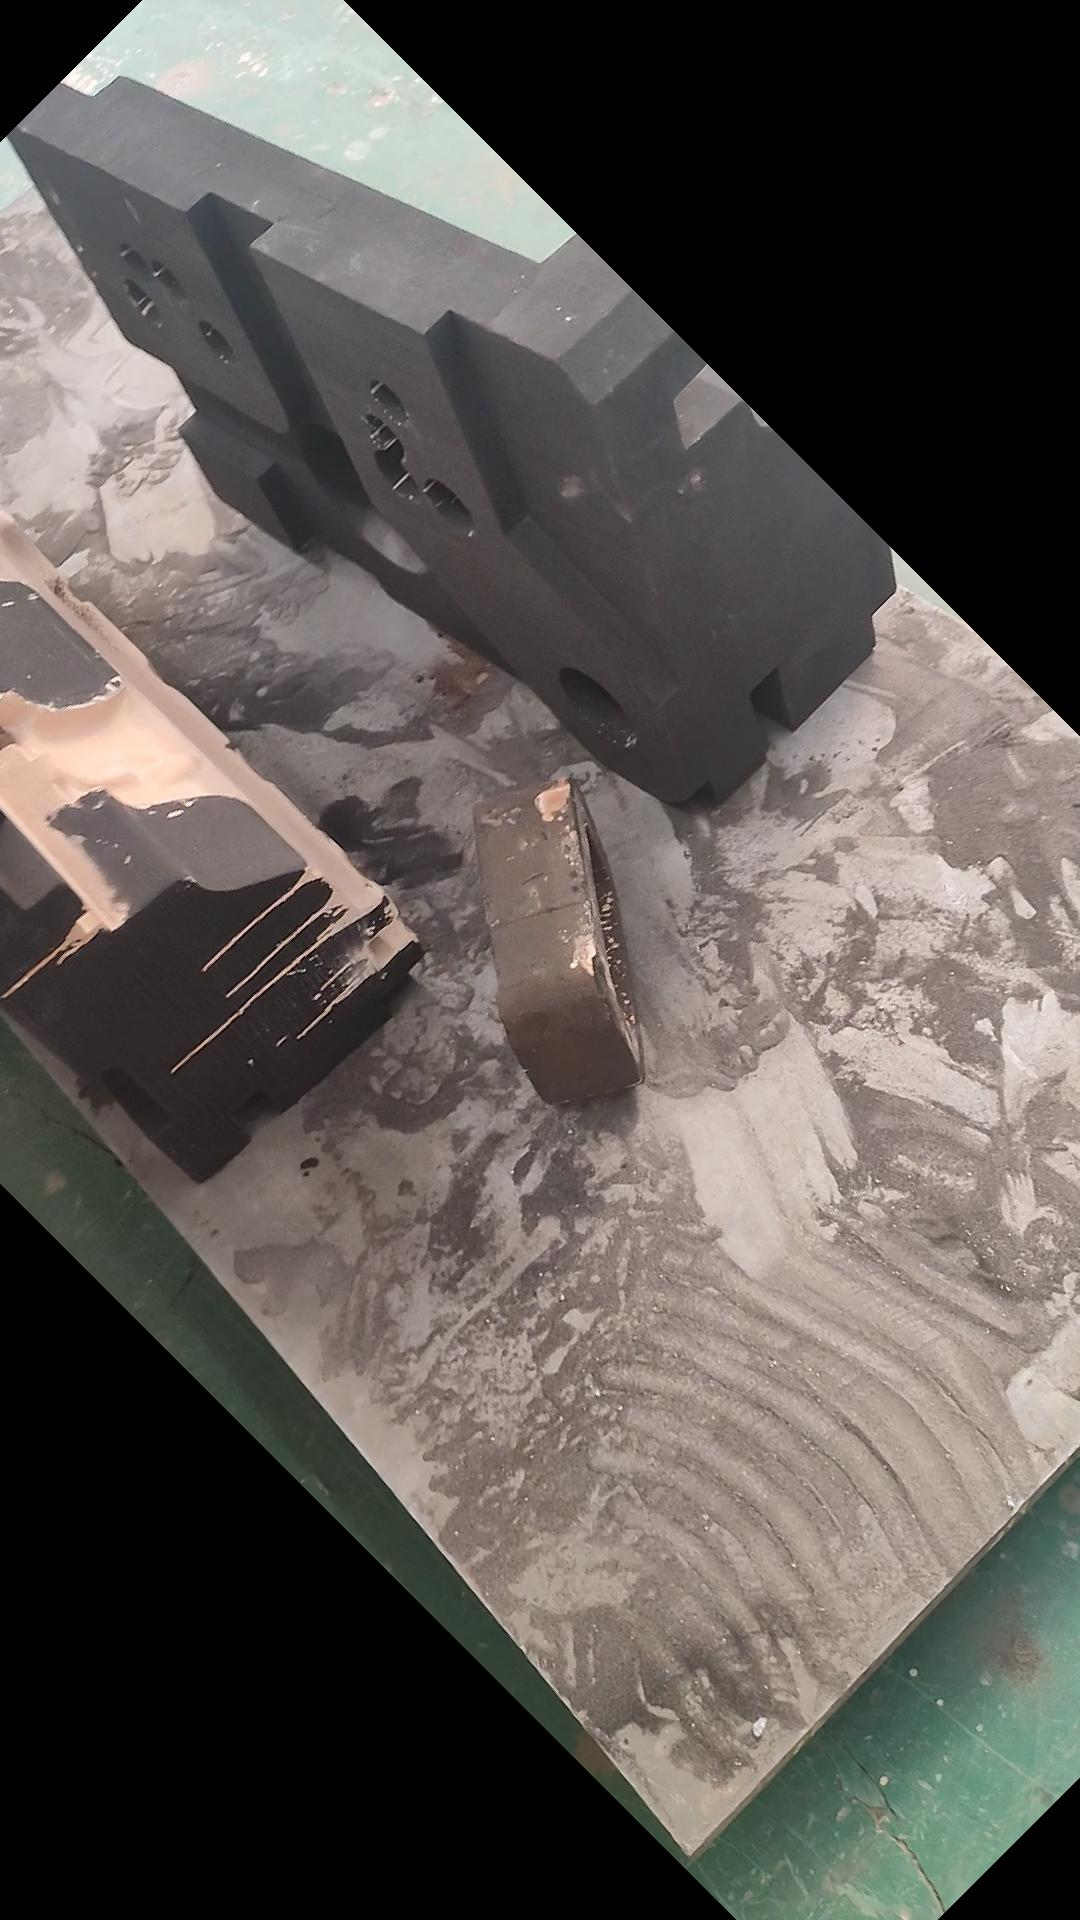pouring hole: (559, 667, 640, 746)
